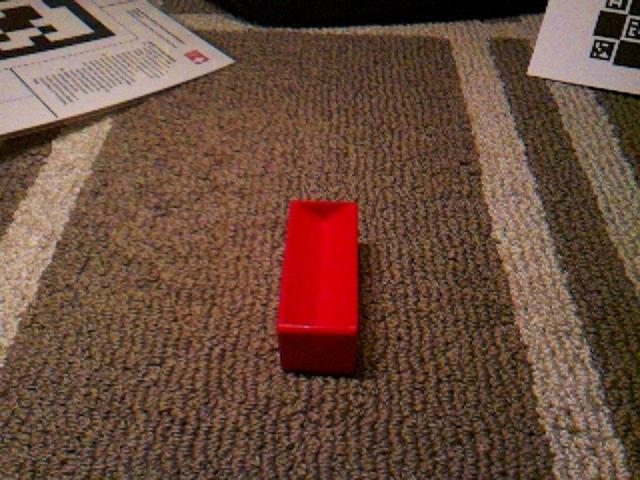red: (276, 198, 361, 377)
